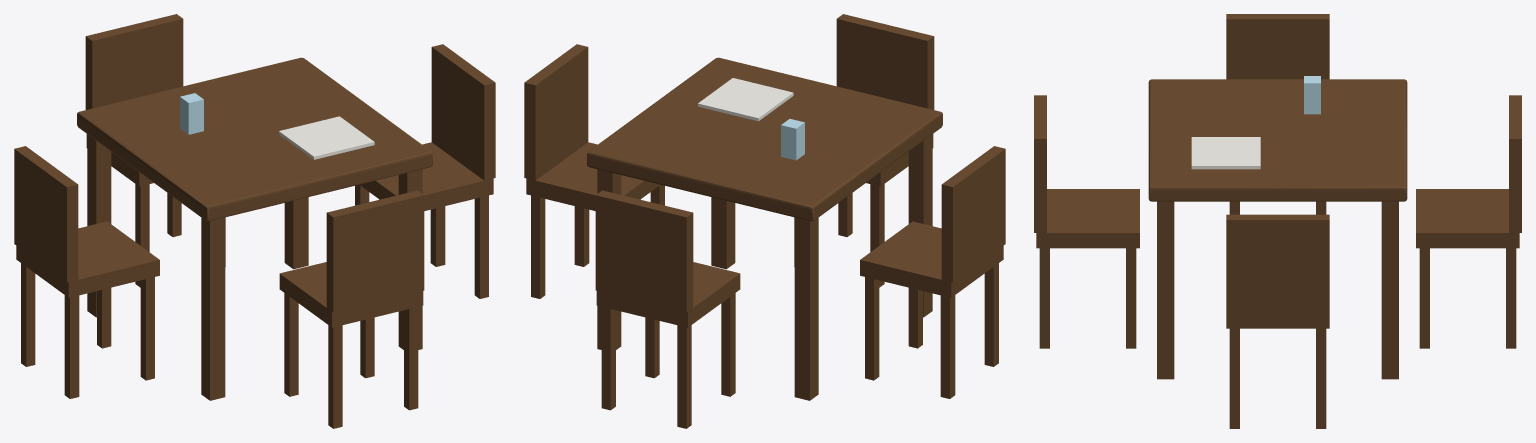
Rendered from dining-set.glb.
The picture shows the model from 3 angles, left to right: view 1: azimuth 30°, elevation 25°; view 2: azimuth 150°, elevation 25°; view 3: azimuth 270°, elevation 25°; orthographic projection.
Parts seen in each view (by area): view 1: part-wood, part-plate, part-clear-tumbler; view 2: part-wood, part-plate, part-clear-tumbler; view 3: part-wood, part-plate, part-clear-tumbler.
Boxes of the visible parts, <box> form: part-wood: <box>14,14,495,428</box>; part-plate: <box>279,116,374,159</box>; part-clear-tumbler: <box>180,93,203,134</box>; part-wood: <box>524,14,1005,428</box>; part-plate: <box>698,78,793,121</box>; part-clear-tumbler: <box>781,119,804,160</box>; part-wood: <box>1034,14,1521,428</box>; part-plate: <box>1191,137,1260,169</box>; part-clear-tumbler: <box>1304,76,1320,114</box>.
Size of the model in its own units: 56.5 by 29 by 56.5.
